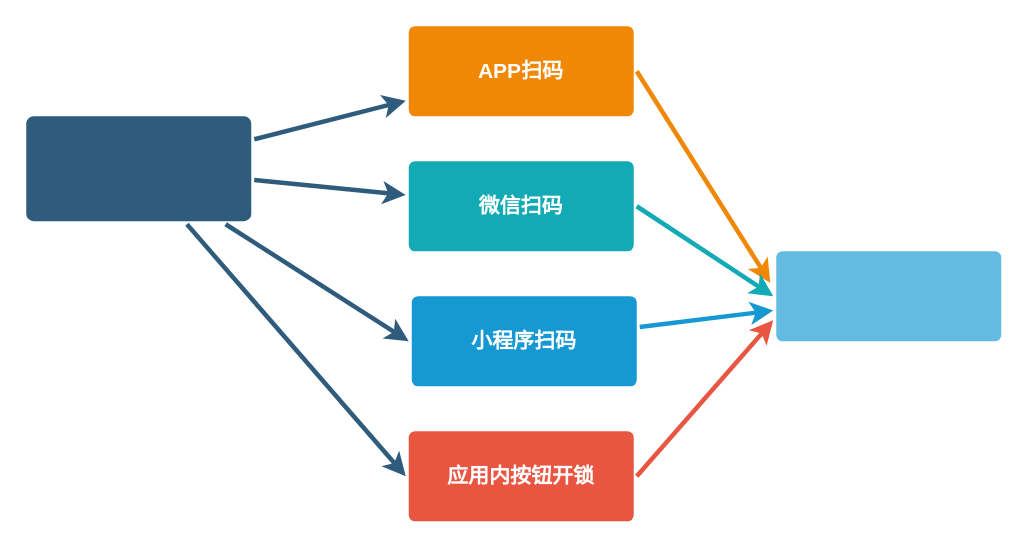
The diagram is 1026 pixels wide and 546 high, and some of its shapes have lost their labels. Each missing label, with the centre of its shape:
共享车位: point 138,168
搜索蓝牙: point 888,295
